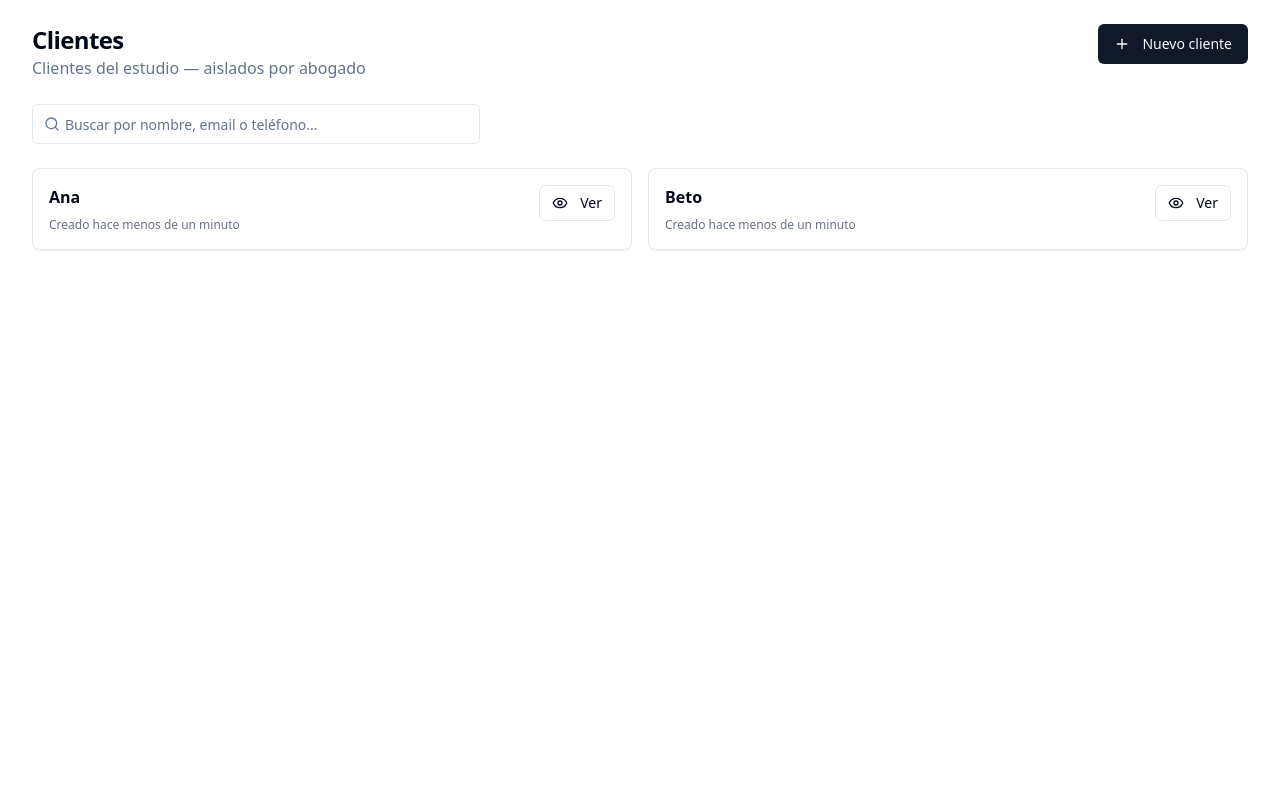
ClientsPage — cupo de primer cliente gratuito › Pro con varios clientes: abre el diálogo (ilimitado)
This screenshot has width=1280, height=800.
Click the button "Nuevo cliente" at {"x": 1173, "y": 44}, box [1098,24,1248,64]
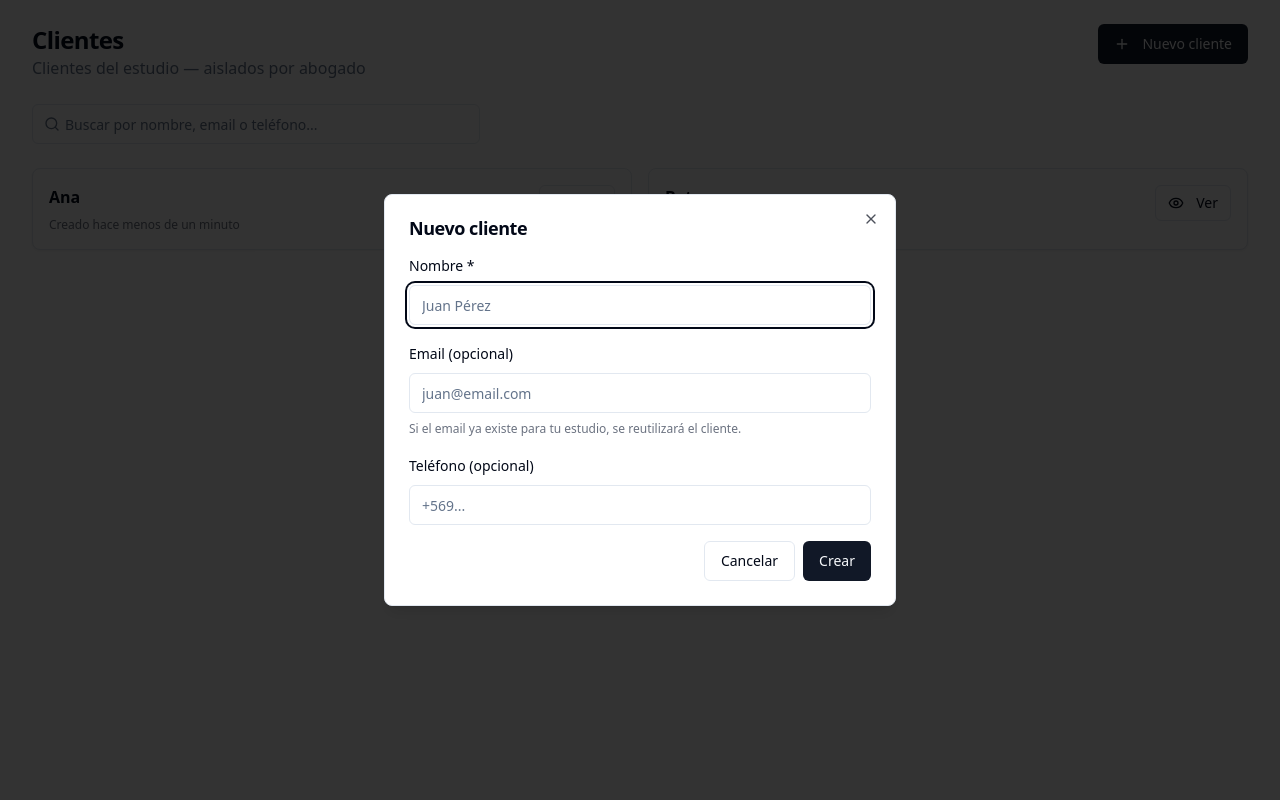
expect the dialog is shown: met, box [384,194,896,606]
